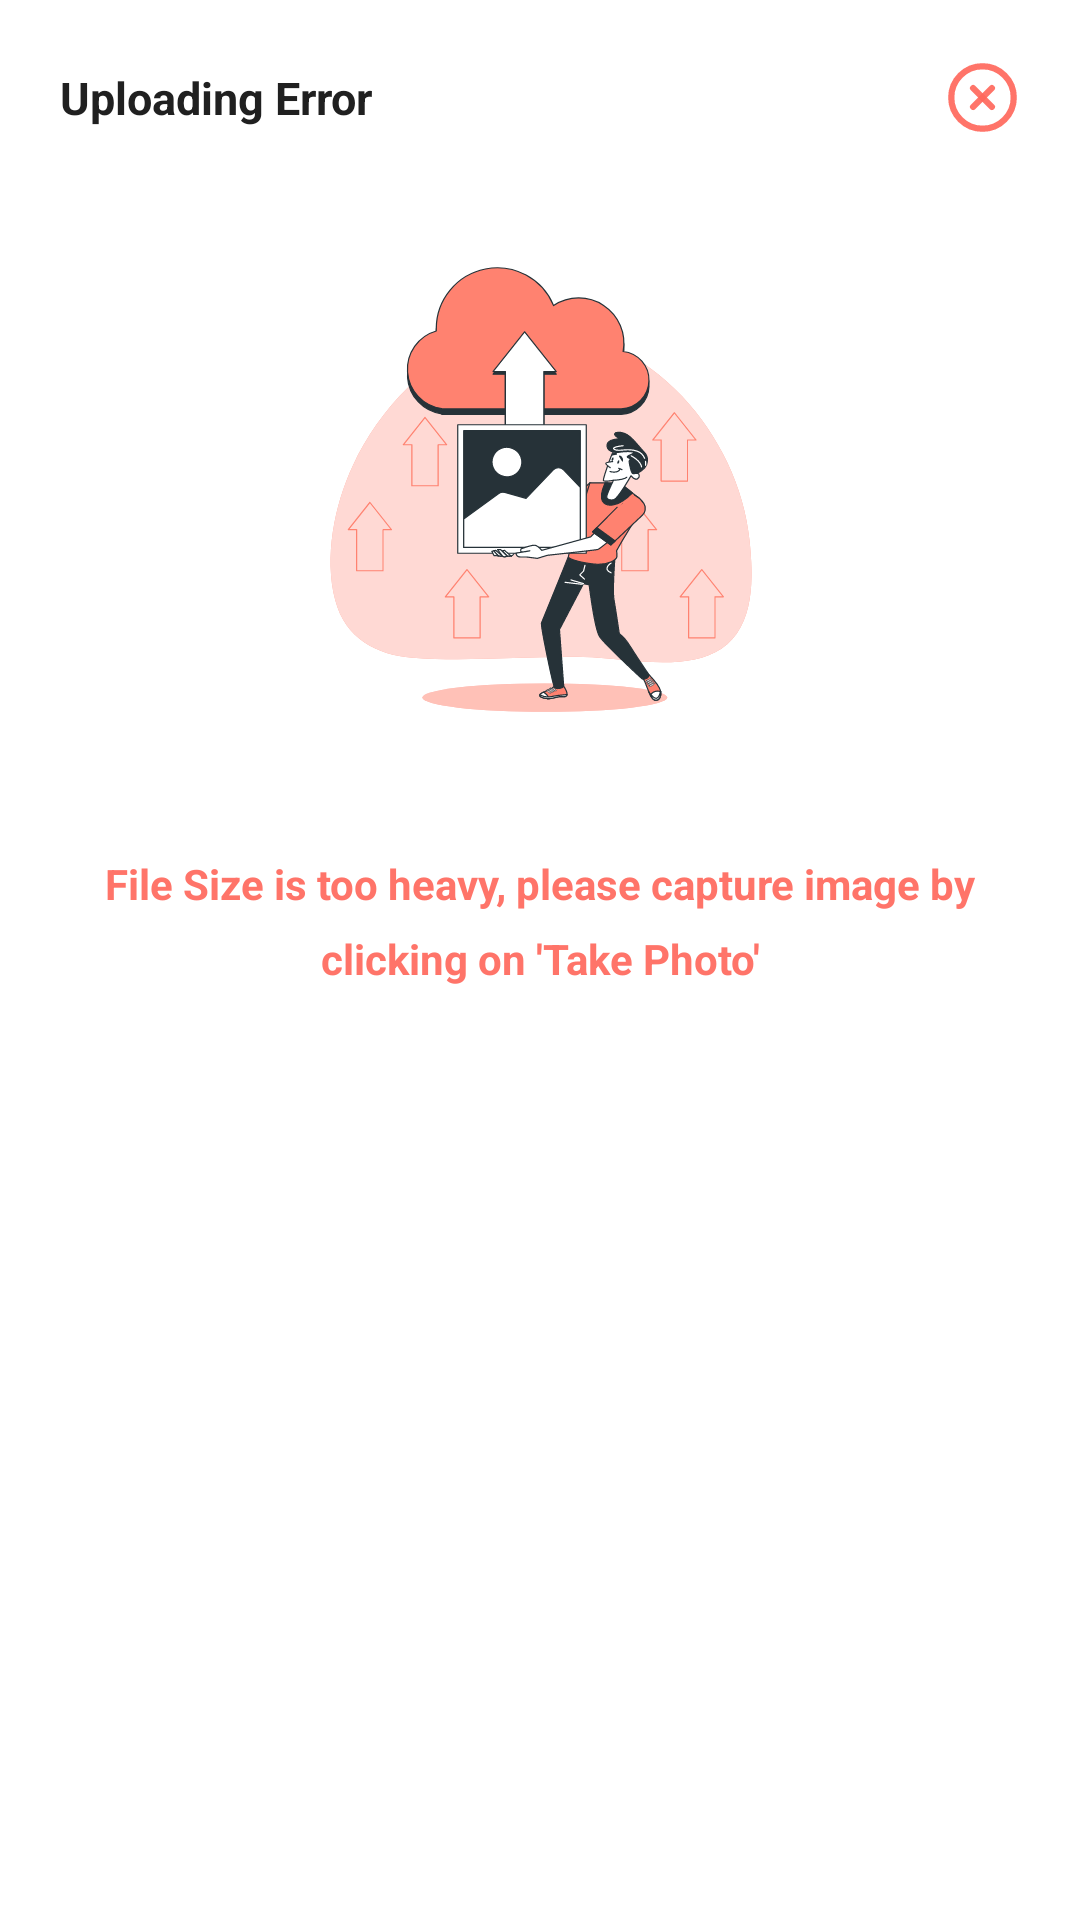

Screen size 1080x1920. Icon name, then its center in pixels as [x,y]:
close: [982,97]
